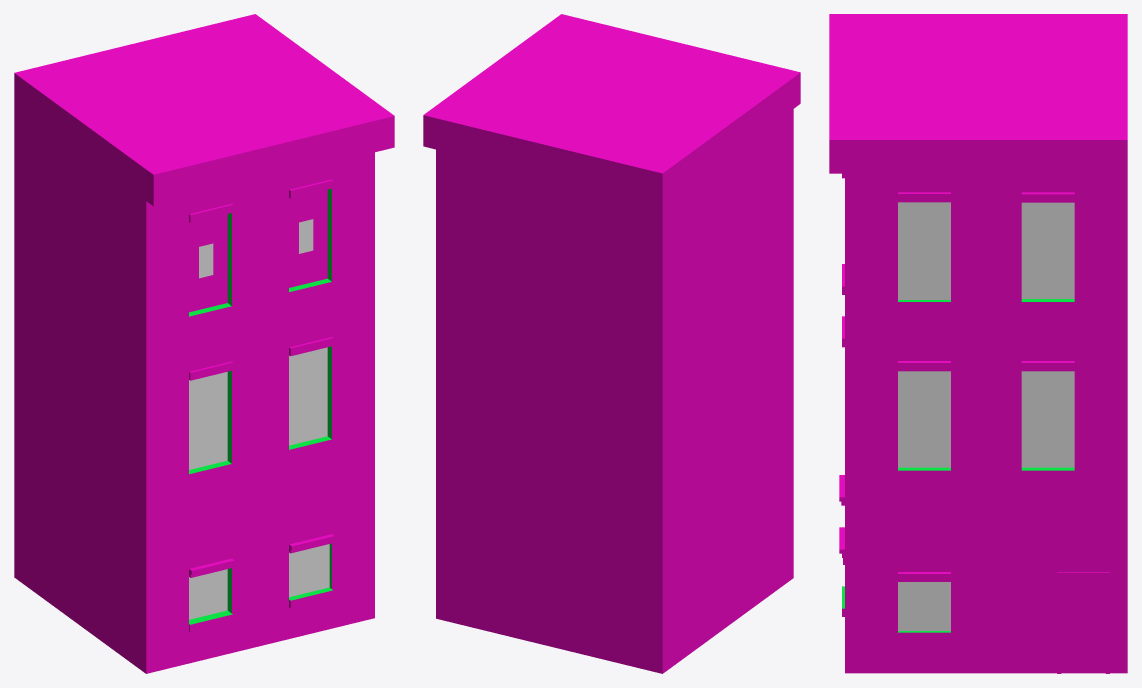
Rendered from hoekhuis_coderclass_samenwerk_opdracht.fbx.
The picture shows the model from 3 angles, left to right: view 1: azimuth 30°, elevation 25°; view 2: azimuth 150°, elevation 25°; view 3: azimuth 270°, elevation 25°; orthographic projection. The views are drawn at different scales.
Parts seen in each view (by area): view 1: Cube; view 2: Cube; view 3: Cube.
Part boxes in pixels (bbox=[...]): Cube: bbox=[14, 14, 394, 673]; Cube: bbox=[423, 14, 800, 673]; Cube: bbox=[829, 14, 1127, 673].
Size of the model in its own units: 211 by 422 by 211.
